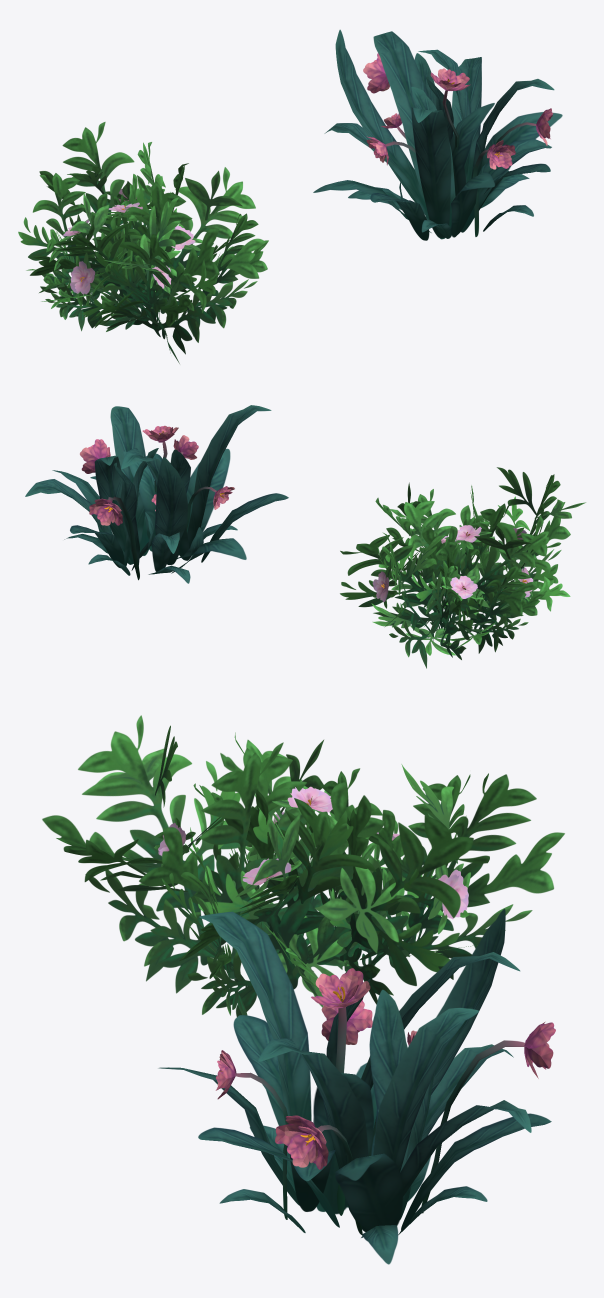
File: lowpoly_flower_bushes.glb
3 views of the same model, one above another, from view 1: azimuth 30°, elevation 25°; view 2: azimuth 150°, elevation 25°; view 3: azimuth 270°, elevation 25° (orthographic). The views are drawn at different scales.
Parts seen in each view (by area): view 1: Plane.025, Plane.028, Plane.051, Plane.027, Plane.011, Plane.046, Plane.021, Plane.022, Plane.043, Plane.029, Plane.024, Plane.060 (+25 smaller); view 2: Plane.018, Plane.022, Plane.051, Plane.011, Plane.026, Plane.023, Plane.020, Plane.057, Plane.021, Plane.061, Plane.024, Plane.027 (+30 smaller); view 3: Plane.027, Plane.018, Plane.025, Plane.021, Plane.051, Plane.028, Plane.026, Plane.061, Plane.020, Plane.057, Plane.058, Plane.011 (+29 smaller).
Part boxes in pixels (bbox=[...]): Plane.025: bbox=[98, 175, 219, 354]; Plane.028: bbox=[131, 167, 265, 336]; Plane.051: bbox=[411, 106, 451, 238]; Plane.027: bbox=[95, 224, 190, 363]; Plane.011: bbox=[335, 29, 428, 217]; Plane.046: bbox=[373, 31, 444, 239]; Plane.021: bbox=[39, 122, 164, 290]; Plane.022: bbox=[30, 214, 178, 328]; Plane.043: bbox=[18, 173, 107, 291]; Plane.029: bbox=[181, 213, 268, 320]; Plane.024: bbox=[82, 235, 167, 331]; Plane.060: bbox=[450, 103, 494, 196]; Plane.018: bbox=[340, 526, 476, 628]; Plane.022: bbox=[463, 515, 549, 653]; Plane.051: bbox=[187, 405, 271, 560]; Plane.011: bbox=[155, 457, 187, 564]; Plane.026: bbox=[389, 501, 505, 613]; Plane.023: bbox=[457, 564, 545, 645]; Plane.020: bbox=[426, 503, 516, 637]; Plane.057: bbox=[110, 406, 145, 563]; Plane.021: bbox=[377, 532, 433, 668]; Plane.061: bbox=[94, 455, 133, 564]; Plane.024: bbox=[460, 533, 560, 623]; Plane.027: bbox=[496, 474, 570, 601]; Plane.027: bbox=[42, 715, 257, 981]; Plane.018: bbox=[320, 795, 489, 1004]; Plane.025: bbox=[139, 742, 315, 993]; Plane.021: bbox=[360, 773, 564, 979]; Plane.051: bbox=[199, 911, 311, 1121]; Plane.028: bbox=[179, 810, 357, 1017]; Plane.026: bbox=[194, 789, 410, 971]; Plane.061: bbox=[373, 1007, 478, 1172]; Plane.020: bbox=[198, 748, 409, 960]; Plane.057: bbox=[258, 1038, 368, 1231]; Plane.058: bbox=[335, 1153, 403, 1230]; Plane.011: bbox=[431, 908, 505, 1094].
Bounding box in the file's own units: 21.32 × 7.25 × 12.27.
1 material, 1 textured.
